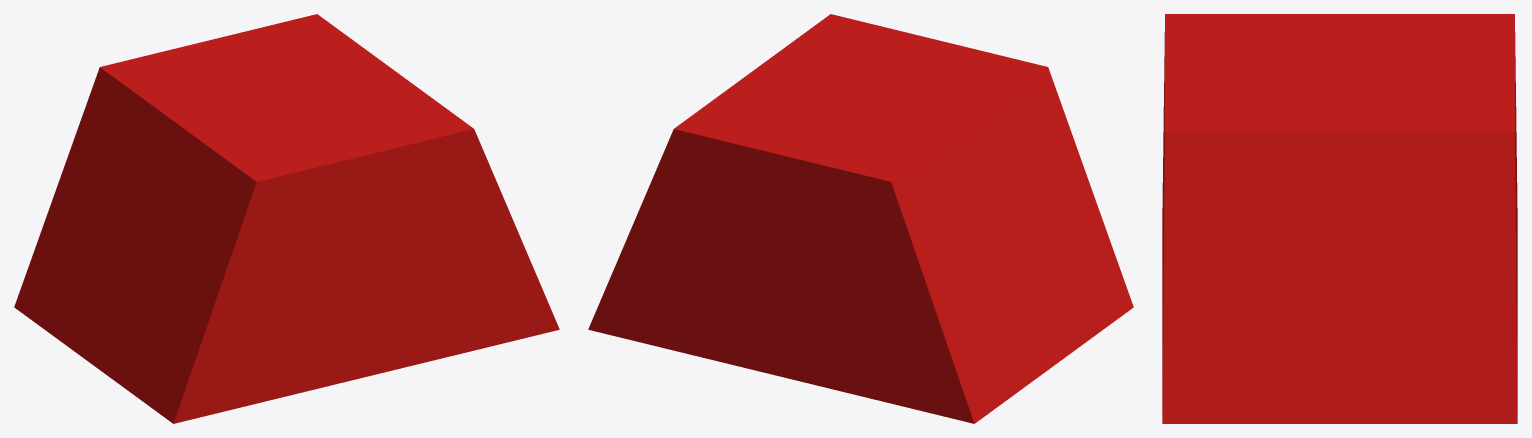
3 views of the same model, side by side, from view 1: azimuth 30°, elevation 25°; view 2: azimuth 150°, elevation 25°; view 3: azimuth 270°, elevation 25° (orthographic). The views are drawn at different scales.
Visible parts, largest first — view 1: Cube.002_Cube.005; view 2: Cube.002_Cube.005; view 3: Cube.002_Cube.005.
Part boxes in pixels (x1,y1,x2,y2): Cube.002_Cube.005: [14, 14, 559, 423]; Cube.002_Cube.005: [588, 14, 1133, 423]; Cube.002_Cube.005: [1162, 14, 1517, 423].
Bounding box in the file's own units: 0.118 × 0.0843 × 0.0643.
